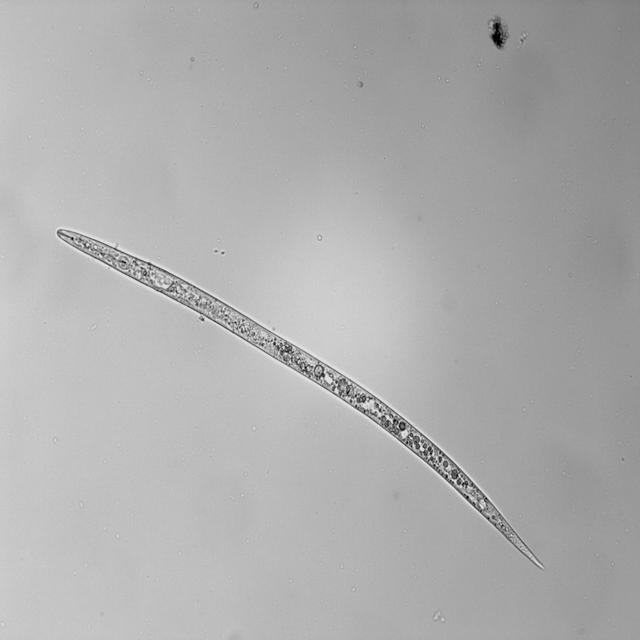Meloidogyne: (51, 224, 557, 577)
